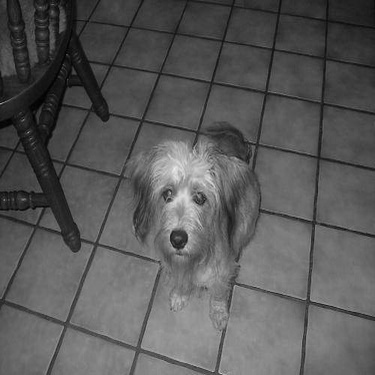dog: (110, 102, 268, 338)
